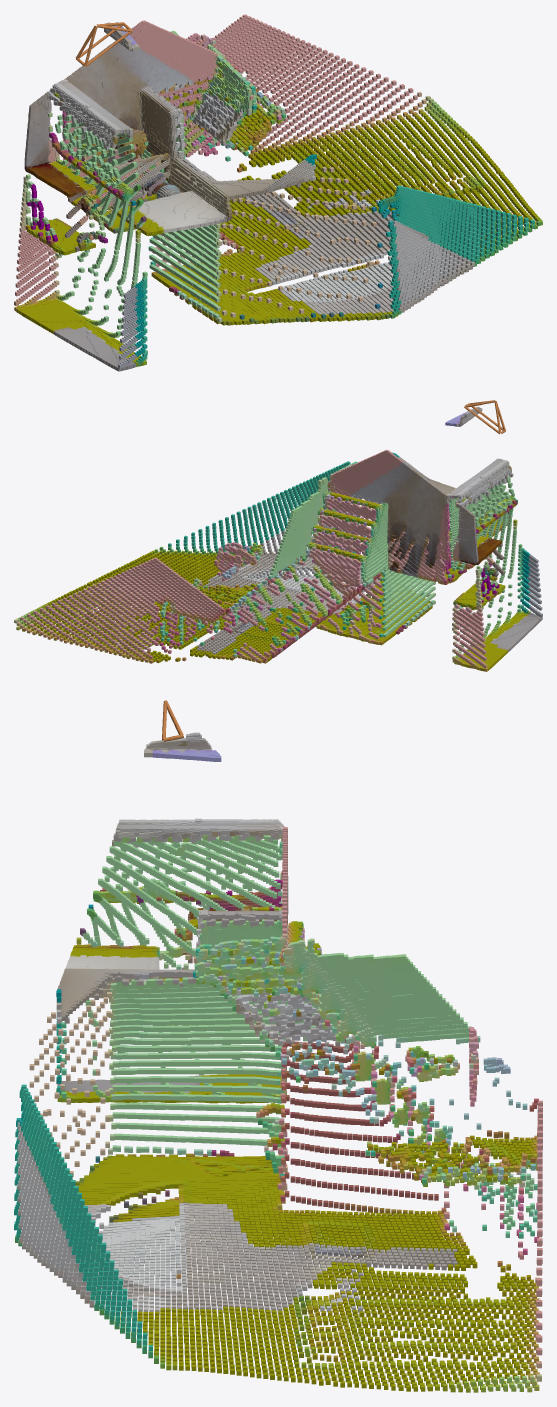
3 renders of one model, top to bottom at view 1: azimuth 30°, elevation 25°; view 2: azimuth 150°, elevation 25°; view 3: azimuth 270°, elevation 25°, orthographic. The views are drawn at different scales.
Size of the model in its own units: 8.03 by 4.78 by 5.6.
